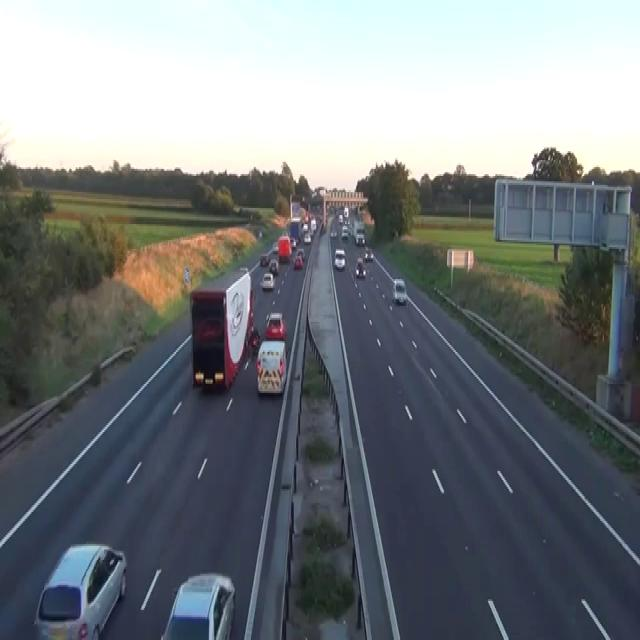Car: (32, 542, 127, 638), (160, 571, 235, 638), (265, 311, 285, 340), (392, 277, 406, 304), (334, 249, 346, 270), (260, 272, 274, 290), (251, 327, 260, 354), (355, 256, 366, 277), (269, 258, 279, 274), (355, 230, 365, 246), (293, 254, 303, 268), (259, 252, 269, 266), (364, 247, 373, 261), (296, 247, 305, 260), (303, 231, 311, 244), (319, 222, 326, 235), (341, 226, 348, 238), (347, 222, 353, 236), (290, 236, 296, 249), (272, 240, 278, 252), (239, 266, 248, 274), (330, 228, 337, 236), (338, 213, 343, 224), (302, 222, 308, 231), (295, 237, 300, 246), (258, 230, 262, 238)
Truck: (189, 267, 254, 389), (256, 338, 287, 394), (278, 235, 291, 261)
